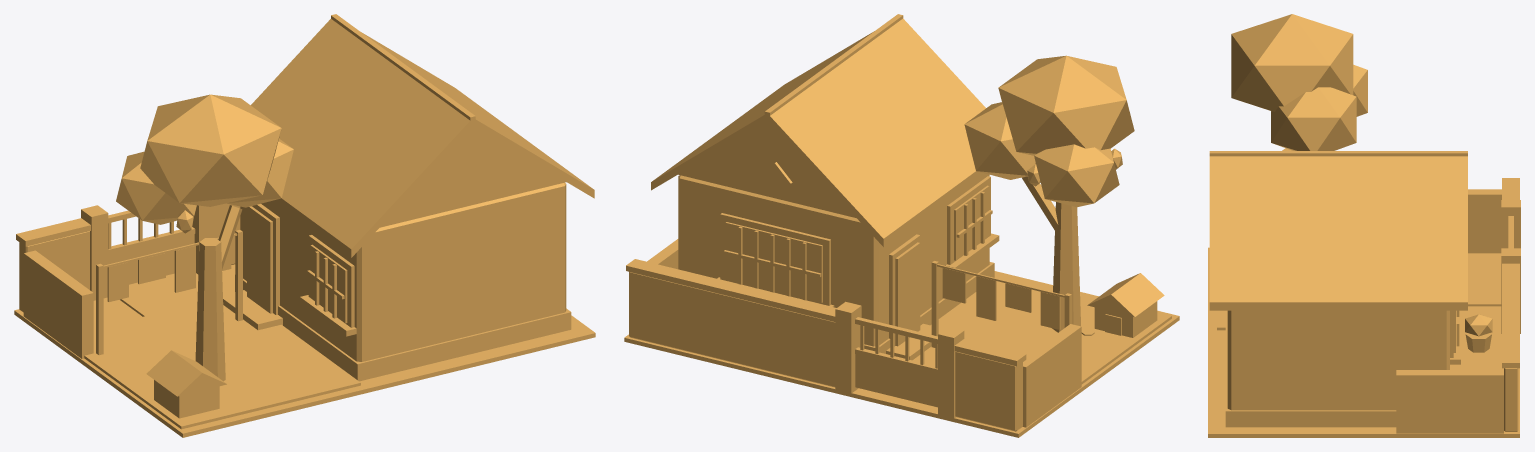
The picture shows the model from 3 angles, left to right: view 1: azimuth 30°, elevation 25°; view 2: azimuth 150°, elevation 25°; view 3: azimuth 270°, elevation 25°; orthographic projection. The views are drawn at different scales.
Visible parts, largest first — view 1: corpo; view 2: corpo; view 3: corpo.
Boxes of the visible parts, left/top/right/bottom form: corpo: left=14, top=14, right=595, bottom=437; corpo: left=624, top=14, right=1179, bottom=437; corpo: left=1208, top=14, right=1520, bottom=437.
Bounding box in the file's own units: 1.23 × 0.832 × 0.8725.
